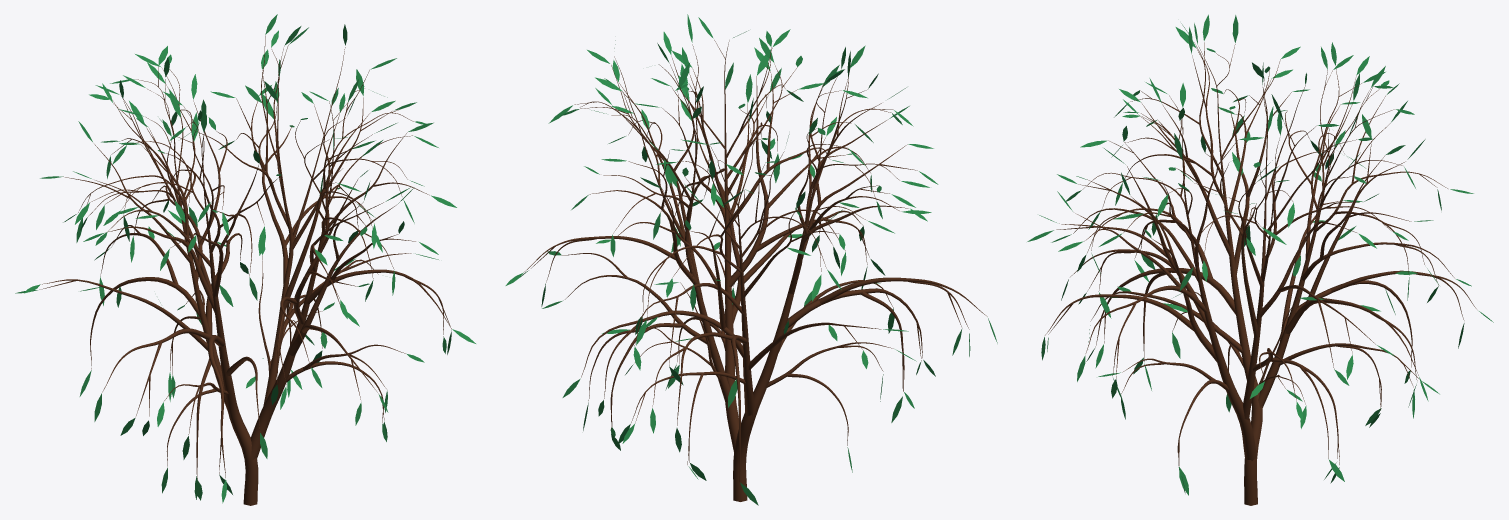
The model's file is Tree.fbx.
The picture shows the model from 3 angles, left to right: view 1: azimuth 30°, elevation 25°; view 2: azimuth 150°, elevation 25°; view 3: azimuth 270°, elevation 25°; orthographic projection.
Visible parts, largest first — view 1: tree; view 2: tree; view 3: tree.
Boxes of the visible parts, x1,y1,x2,y2 form: tree: [15, 14, 475, 505]; tree: [505, 14, 997, 505]; tree: [1027, 14, 1493, 505].
Size of the model in its own units: 581 by 652 by 594.
